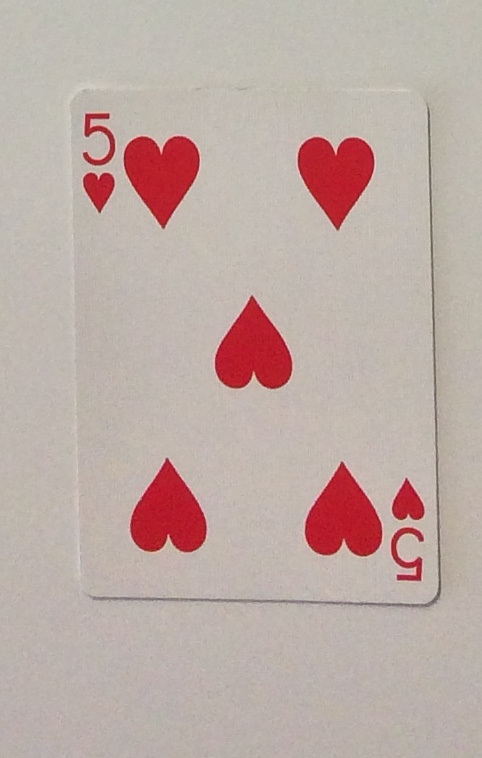5: (74, 98, 119, 171)
H: (71, 169, 127, 216)
